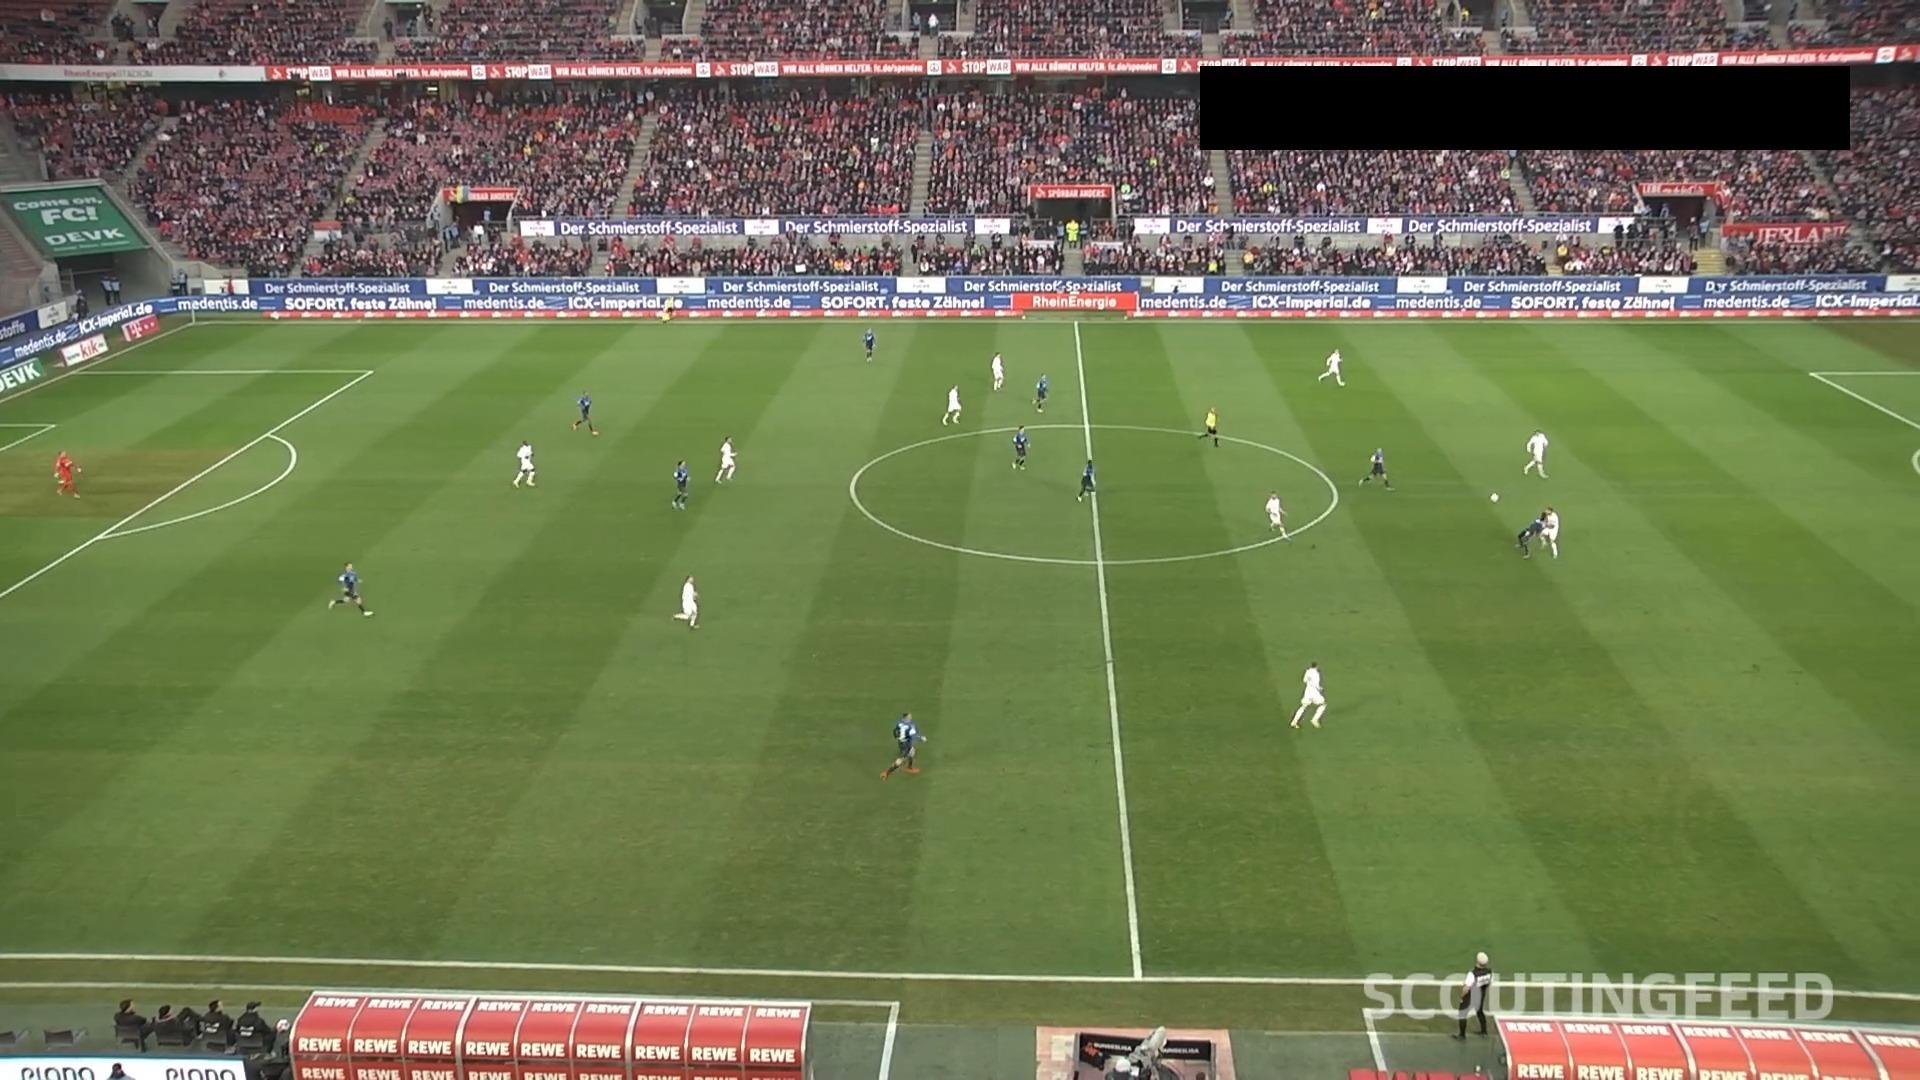ball: (1487, 492, 1501, 504)
